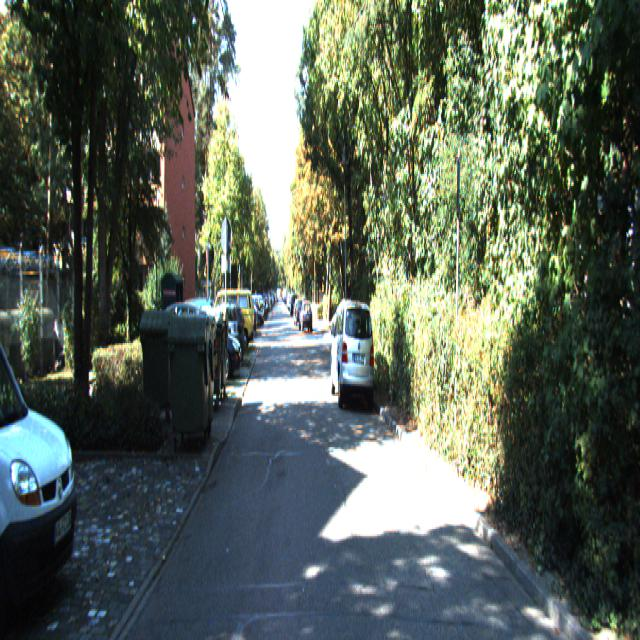Car: (0, 278, 87, 638), (328, 300, 376, 416), (211, 288, 254, 350), (299, 302, 313, 335)
